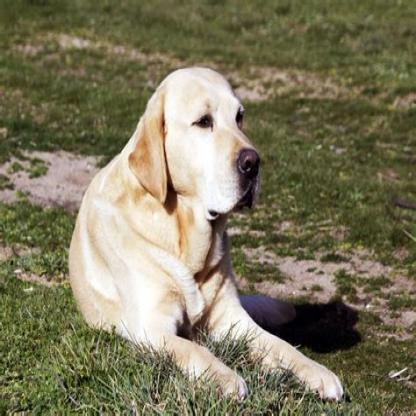dog: (67, 68, 331, 364)
